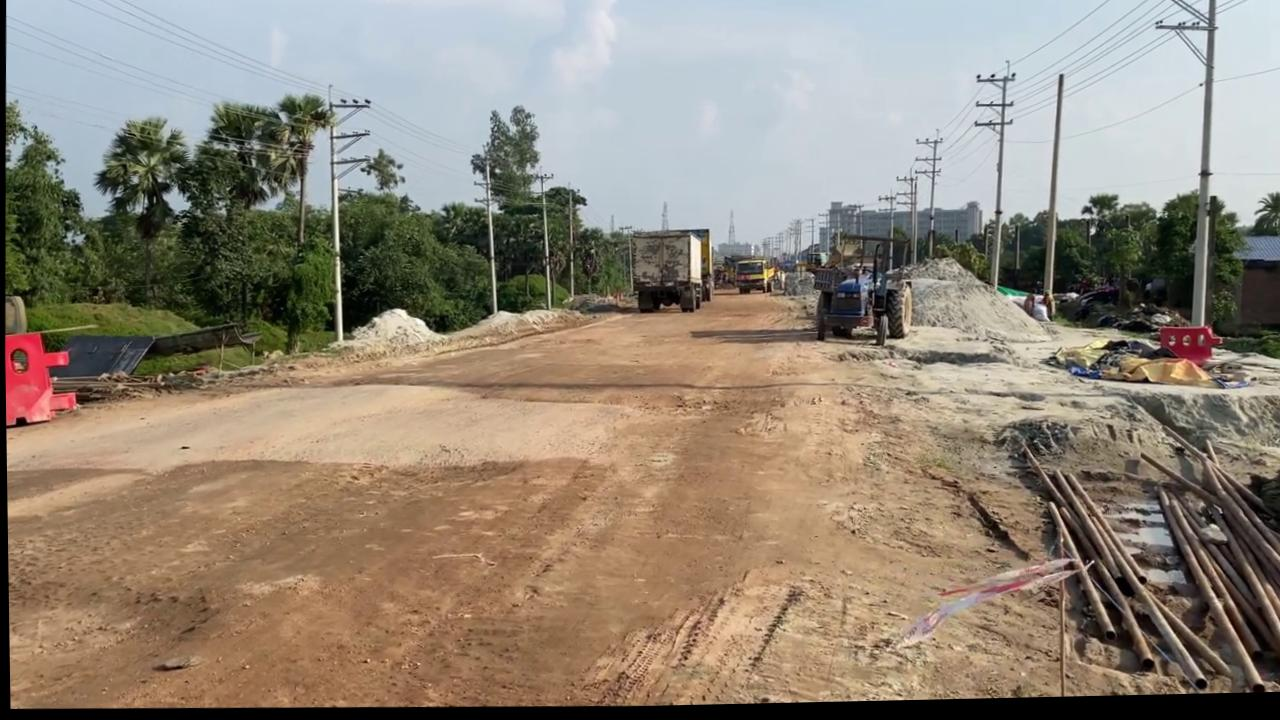Construction-barrier: (3, 294, 80, 428), (1157, 328, 1221, 372)
Obstacle: (980, 404, 1280, 703)
Pole: (1184, 0, 1222, 333), (1038, 76, 1067, 322), (323, 87, 348, 344), (480, 153, 500, 318)
Traffic-sign: (89, 113, 193, 310), (465, 105, 542, 318)
Tree: (811, 234, 913, 352), (627, 230, 712, 317), (732, 261, 773, 298), (721, 256, 755, 289)
